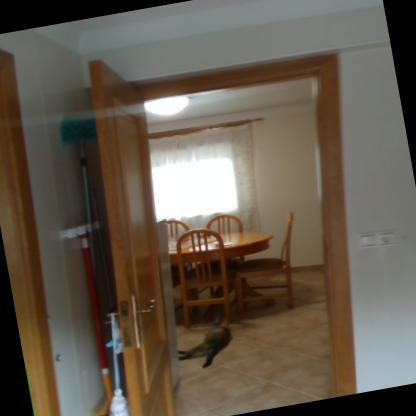open: (65, 34, 410, 415)
